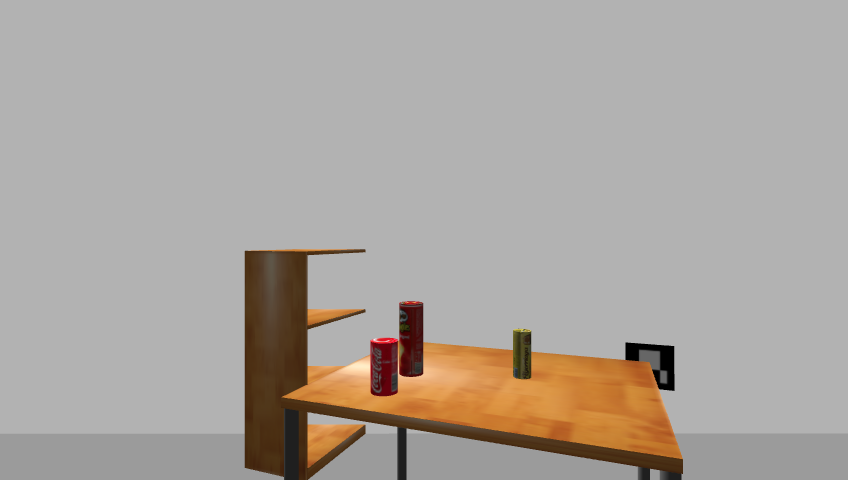aruco marker: (620, 340, 679, 393)
biscuits pack: (512, 328, 533, 381)
bookshelf: (239, 246, 371, 480)
coke can: (369, 338, 401, 397)
dinner table: (277, 341, 693, 479)
pringles can: (397, 301, 426, 379)
